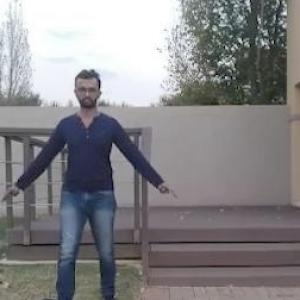land: (26, 78, 160, 298)
